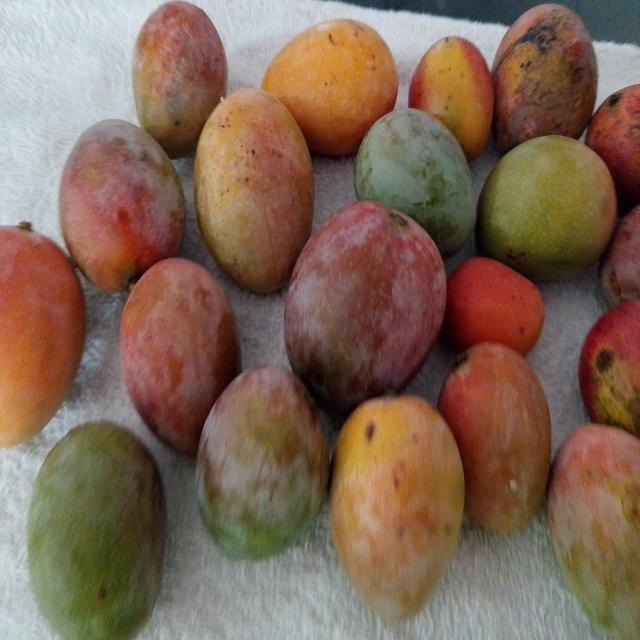mango: (284, 201, 445, 412), (329, 396, 464, 622), (27, 422, 166, 639), (197, 366, 328, 559), (194, 89, 314, 293), (120, 258, 241, 456), (59, 120, 186, 292), (438, 343, 551, 533), (476, 136, 616, 280), (548, 424, 639, 639), (0, 223, 85, 446), (262, 19, 398, 155), (354, 109, 476, 257), (492, 4, 597, 153), (132, 0, 227, 158), (408, 36, 494, 161), (443, 257, 544, 355), (578, 298, 640, 436), (586, 84, 639, 212), (599, 204, 640, 307)
